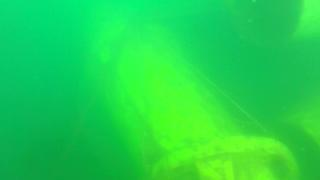pipe: (79, 14, 302, 180), (224, 1, 320, 49), (268, 112, 320, 180)
